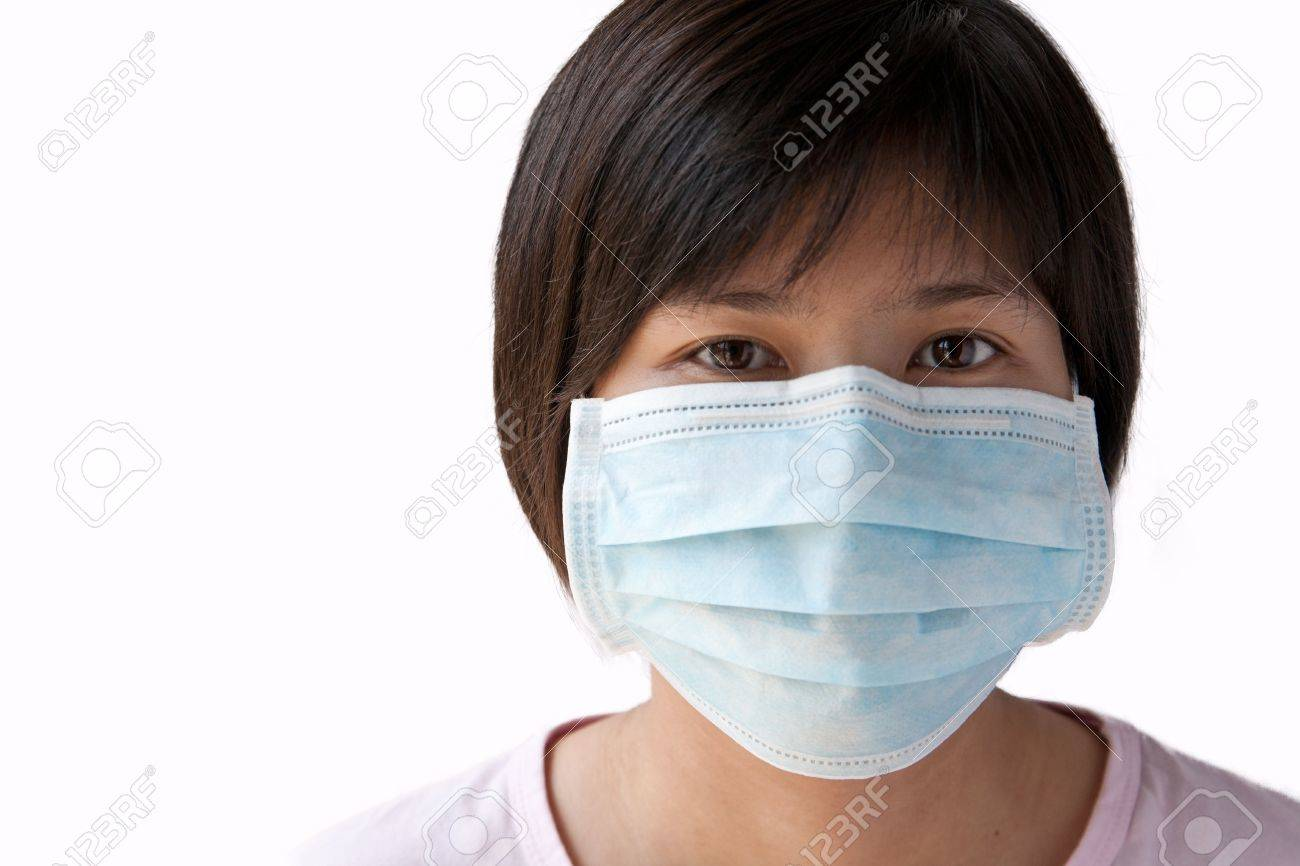surgical: (550, 355, 1133, 775)
